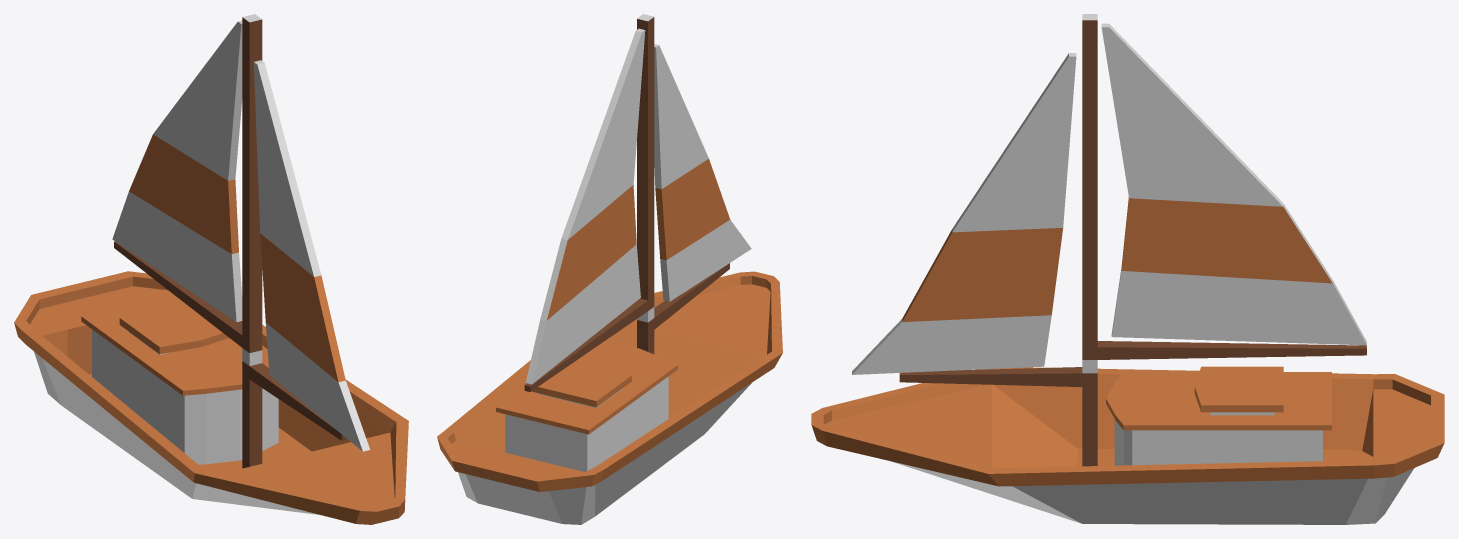
File: boat.fbx
3 views of the same model, side by side, from view 1: azimuth 30°, elevation 25°; view 2: azimuth 150°, elevation 25°; view 3: azimuth 270°, elevation 25° (orthographic). The views are drawn at different scales.
Parts seen in each view (by area): view 1: Cube.008; view 2: Cube.008; view 3: Cube.008.
Part boxes in pixels (x1=…): Cube.008: x1=14, y1=14, x2=408, y2=524; Cube.008: x1=437, y1=14, x2=782, y2=524; Cube.008: x1=811, y1=14, x2=1444, y2=524.
Size of the model in its own units: 457 by 943 by 1140.
